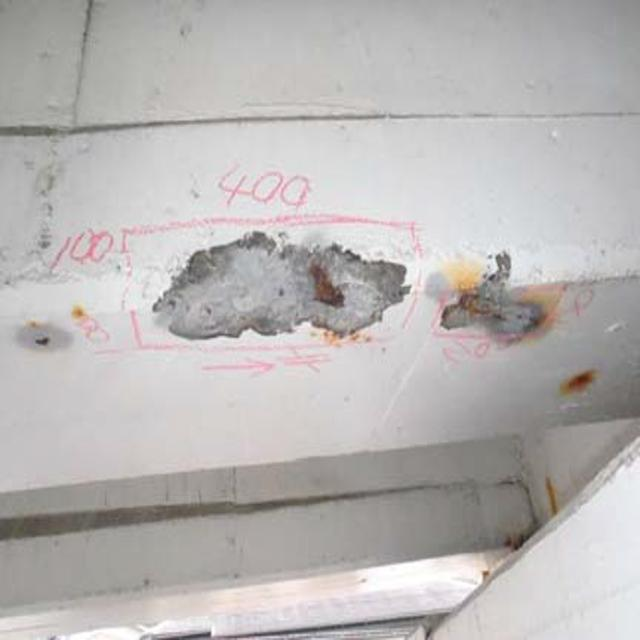spalling: (141, 226, 556, 374)
